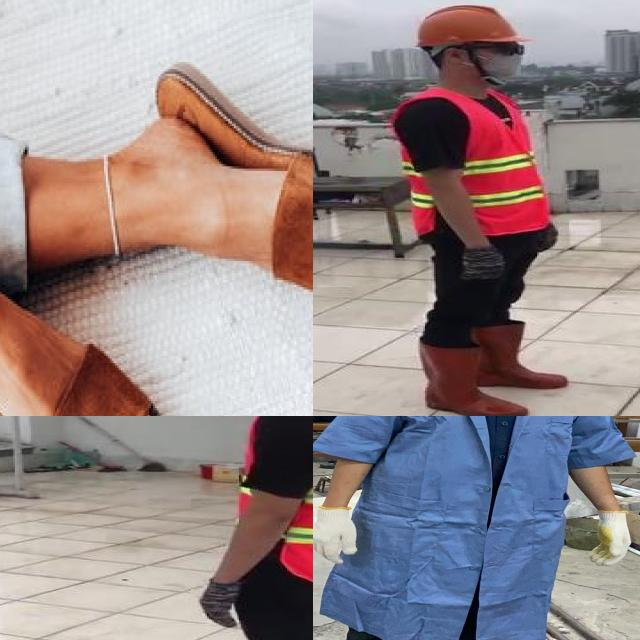Sandals: (134, 57, 313, 303), (0, 224, 183, 416)
boots: (417, 338, 531, 416), (478, 321, 568, 391)
face_mask: (481, 40, 525, 78)
glasses: (479, 40, 531, 60)
hand_glove: (313, 503, 364, 567), (582, 506, 638, 564), (198, 579, 248, 630), (448, 246, 505, 284)
head_helmet: (411, 3, 523, 46)
person: (384, 1, 574, 416), (313, 416, 638, 640), (168, 416, 313, 640)
vest: (386, 88, 553, 233)
